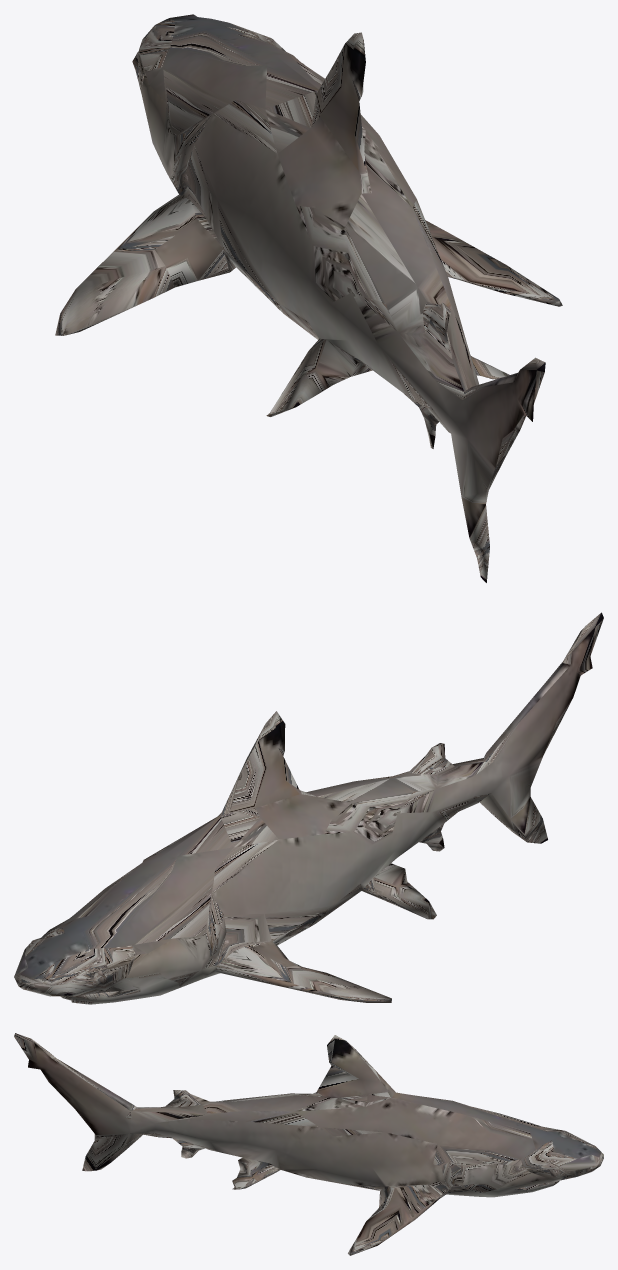
File: zwartpunt-ver.glb
3 renders of one model, top to bottom at view 1: azimuth 30°, elevation 25°; view 2: azimuth 150°, elevation 25°; view 3: azimuth 270°, elevation 25°, orthographic. The views are drawn at different scales.
Visible parts, largest first — view 1: tripo_node_e9f63809-60fd-4c2d-8f84-c67a145bb234; view 2: tripo_node_e9f63809-60fd-4c2d-8f84-c67a145bb234; view 3: tripo_node_e9f63809-60fd-4c2d-8f84-c67a145bb234.
Part boxes in pixels (x1,y1,x2,y2): tripo_node_e9f63809-60fd-4c2d-8f84-c67a145bb234: (55,14,562,582); tripo_node_e9f63809-60fd-4c2d-8f84-c67a145bb234: (14,612,603,1004); tripo_node_e9f63809-60fd-4c2d-8f84-c67a145bb234: (14,1033,603,1255).
Bounding box in the file's own units: 2.1 × 1.5 × 4.76.
Materials: 1 (1 with a texture image).
